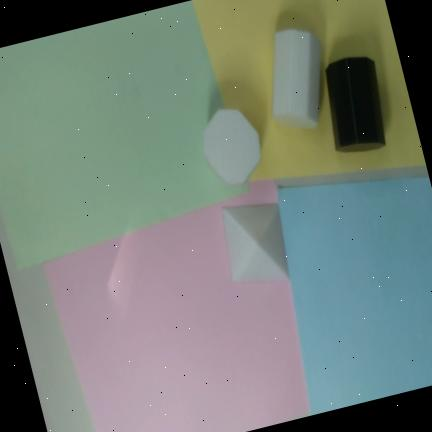Piramide: (221, 203, 289, 283)
Prisma_hexagonal: (325, 56, 386, 152), (271, 29, 320, 129), (203, 108, 262, 186)
